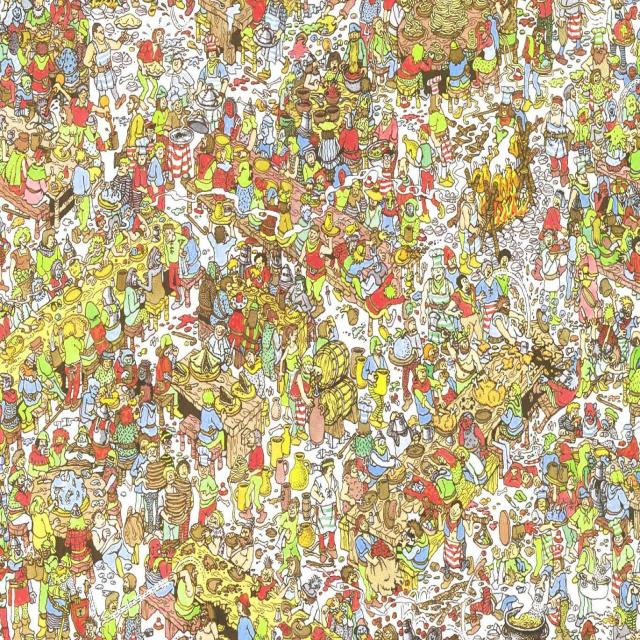waldo: (379, 144, 394, 170)
